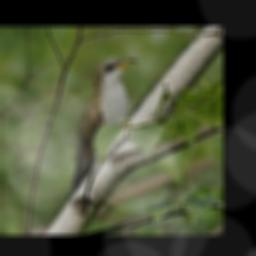Cuckoo: (66, 56, 137, 203)
